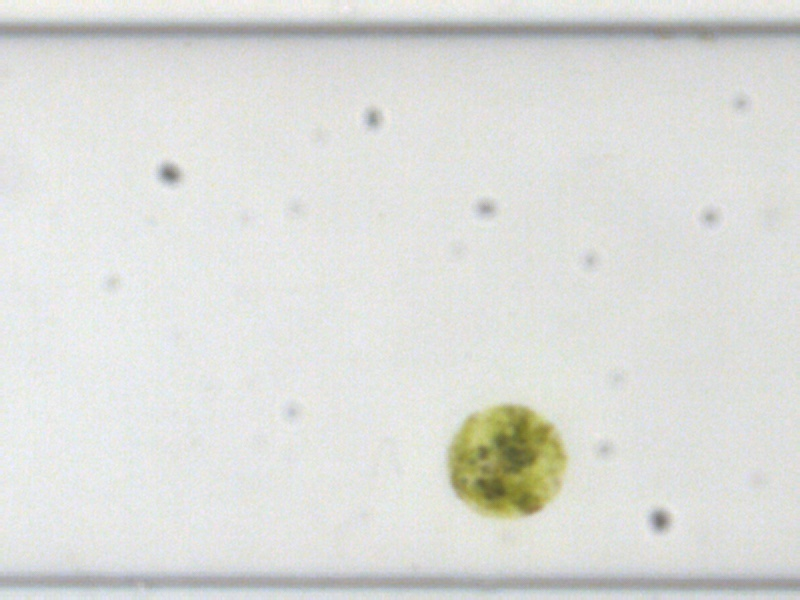Haematococcus: (438, 396, 570, 524)
